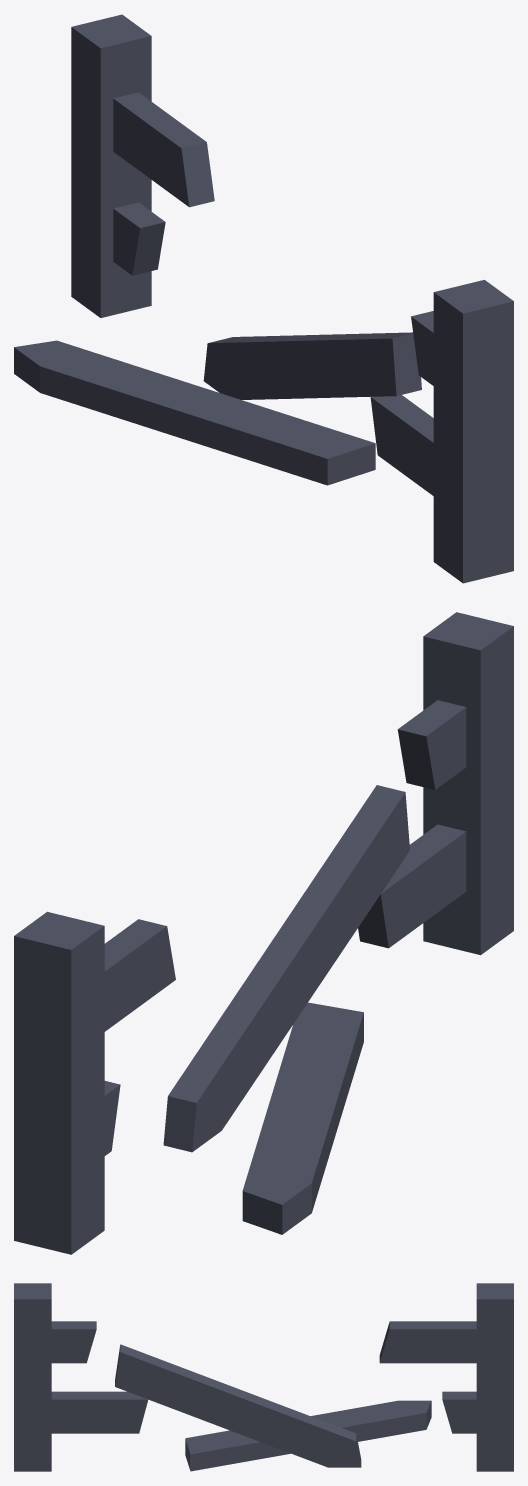
Rendered from fence-broken.glb.
3 renders of one model, top to bottom at view 1: azimuth 30°, elevation 25°; view 2: azimuth 150°, elevation 25°; view 3: azimuth 270°, elevation 25°, orthographic. The views are drawn at different scales.
Visible parts, largest first — view 1: fence-broken; view 2: fence-broken; view 3: fence-broken.
Boxes of the visible parts, x1=… form: fence-broken: x1=14, y1=14, x2=513, y2=583; fence-broken: x1=14, y1=612, x2=513, y2=1254; fence-broken: x1=14, y1=1283, x2=513, y2=1471.
Size of the model in its own units: 0.2547 by 0.38 by 1.
Materials: 1 (1 with a texture image).
